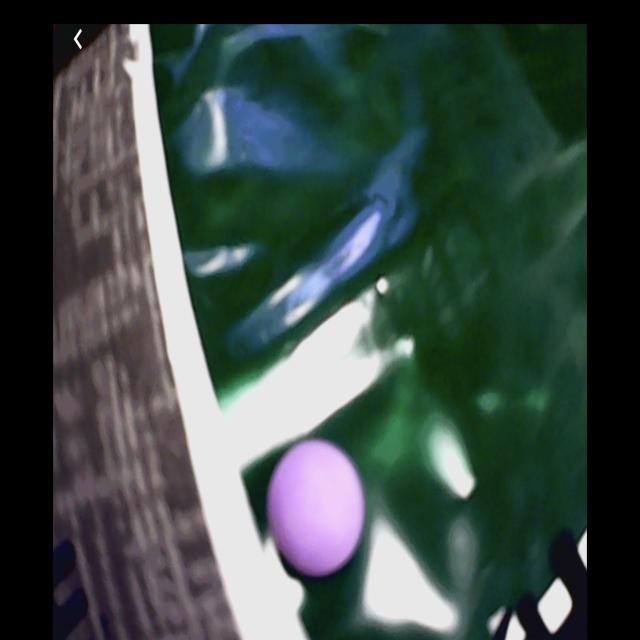ball: (272, 442, 364, 583)
